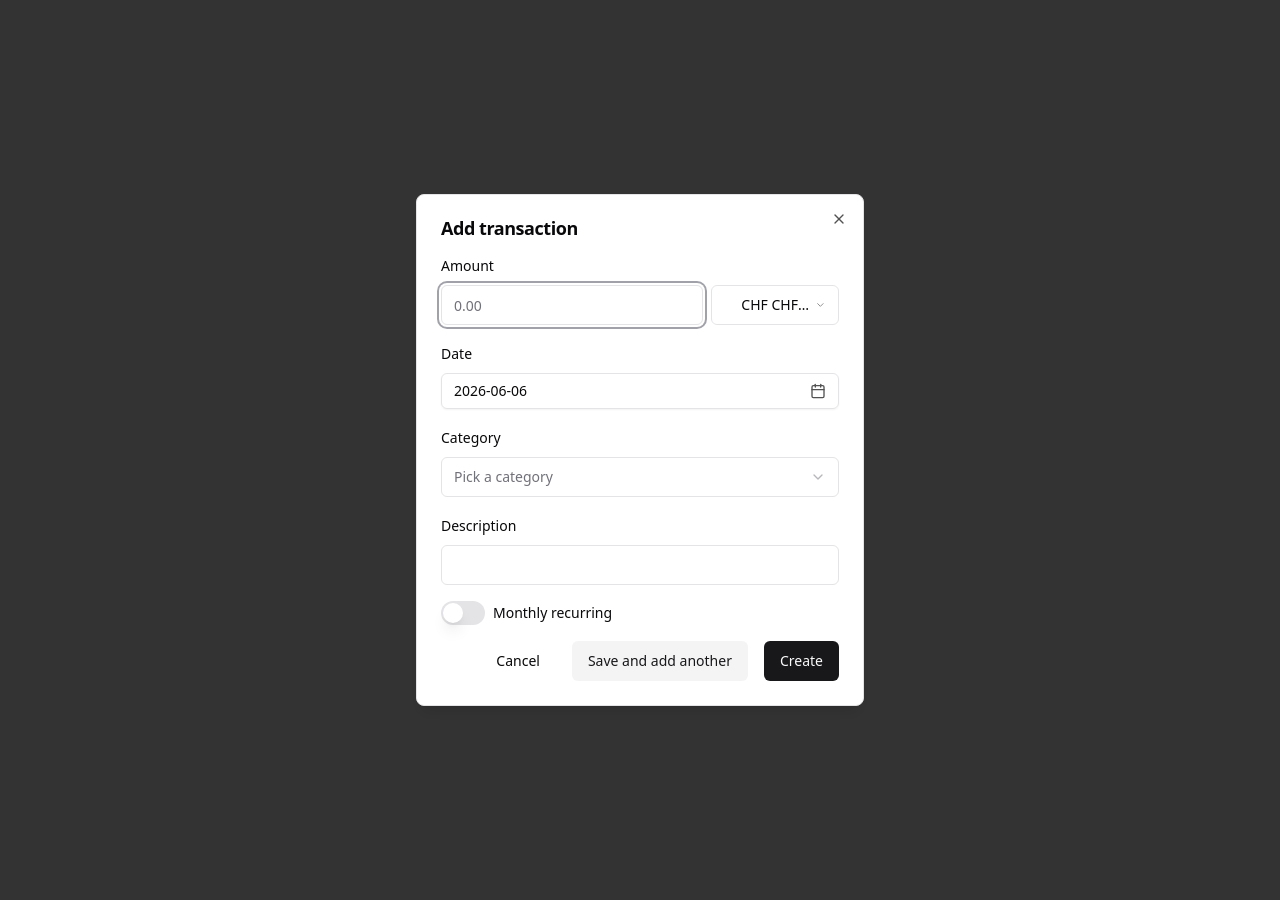
TransactionFormDialog savings flow › shows Deposit/Withdraw toggle when picked category is kind=savings
Expected: the heading "Add transaction" is shown, [441,216,578,240]
Expected: the element "direction" is not shown
# Open category select and pick the savings category.
Click the dropdown labelled "Pick a category" at [503, 476], box [441,457,839,497]
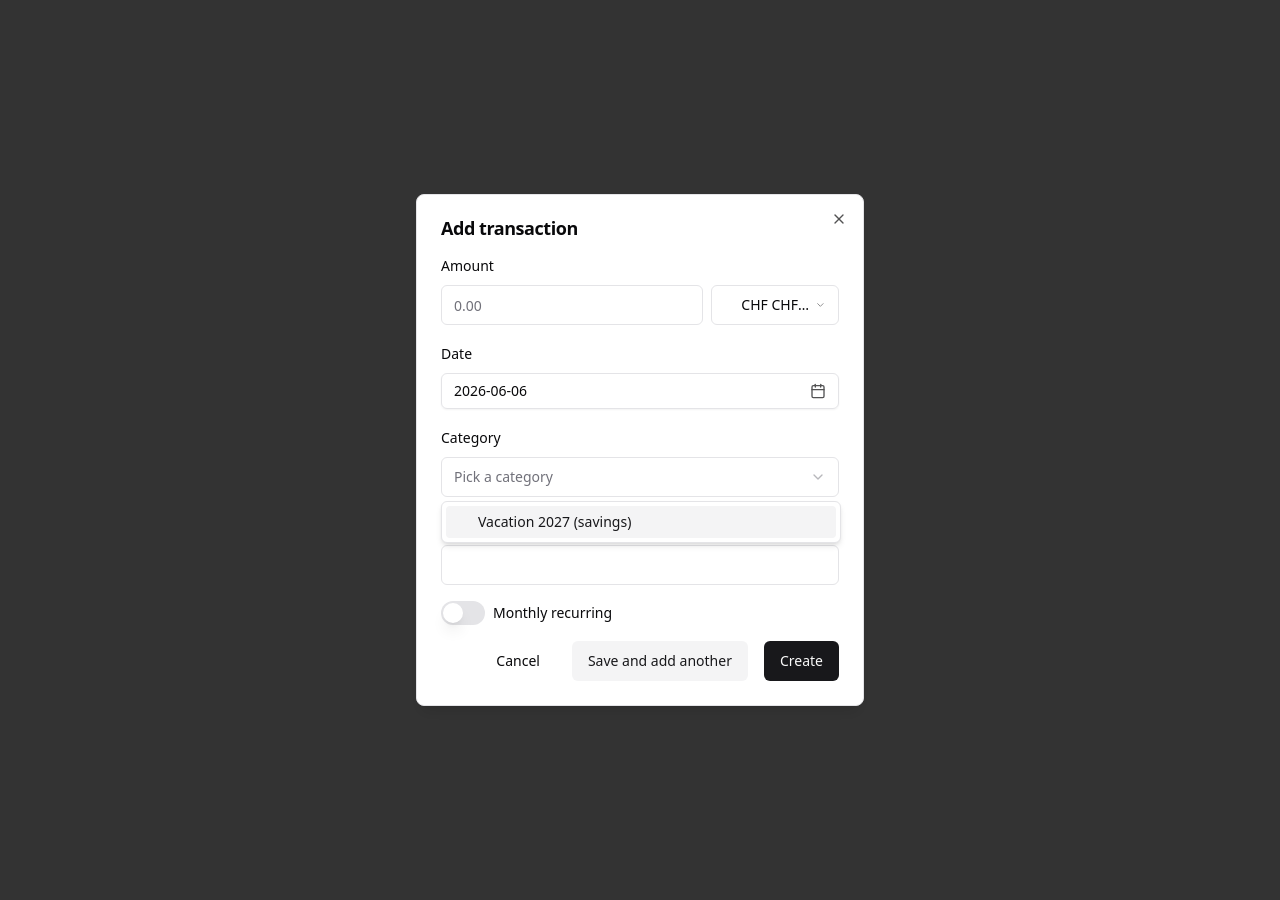
Click the option "Vacation 2027 (savings)" at [524, 522], box [446,506,836,538]
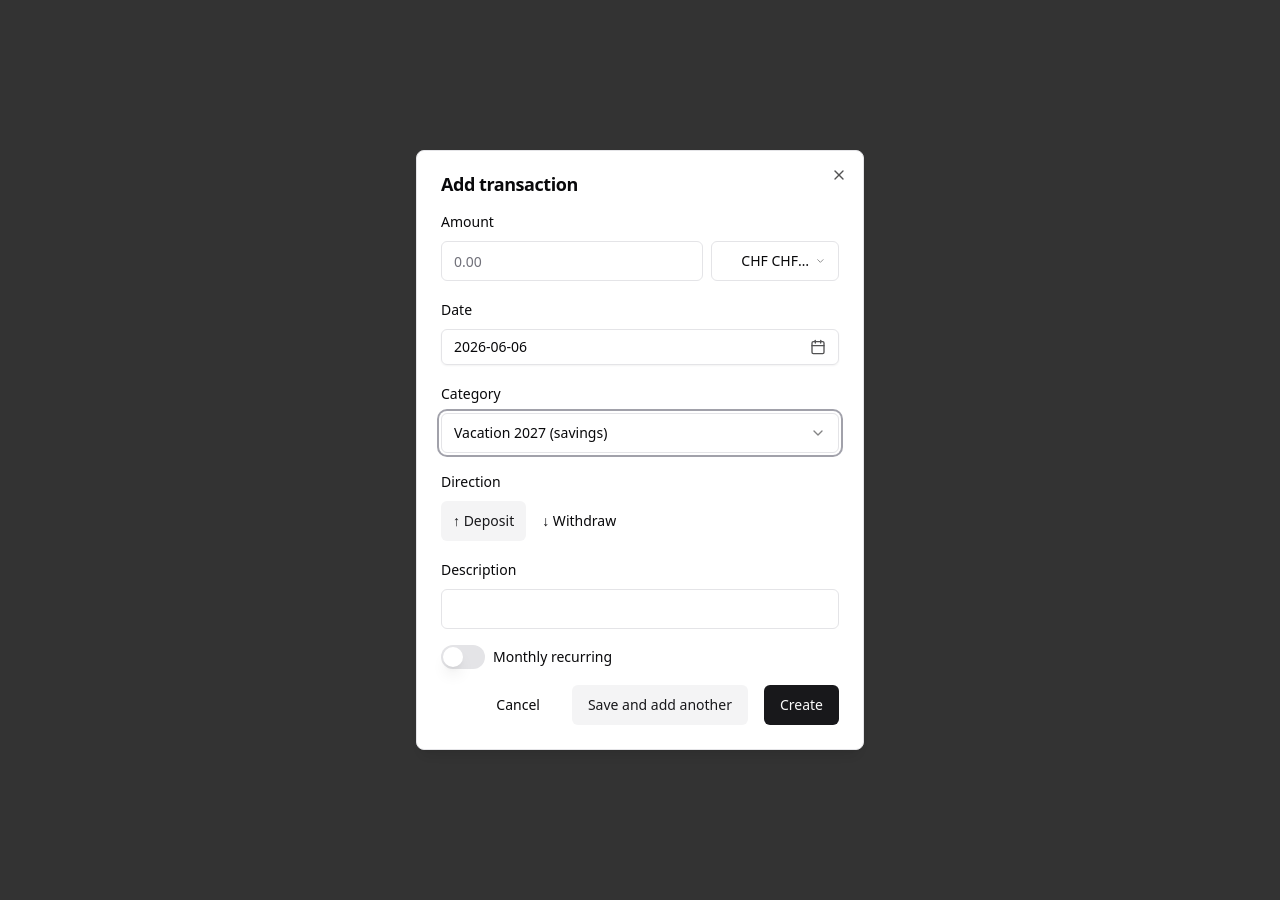
Expected: the element "Direction ↑ Deposit ↓ Withdraw" is shown, [441,472,628,541]
Expected: the radio button labelled "↑ Deposit" is shown, [441,501,526,541]
Expected: the radio button labelled "↓ Withdraw" is shown, [530,501,628,541]
